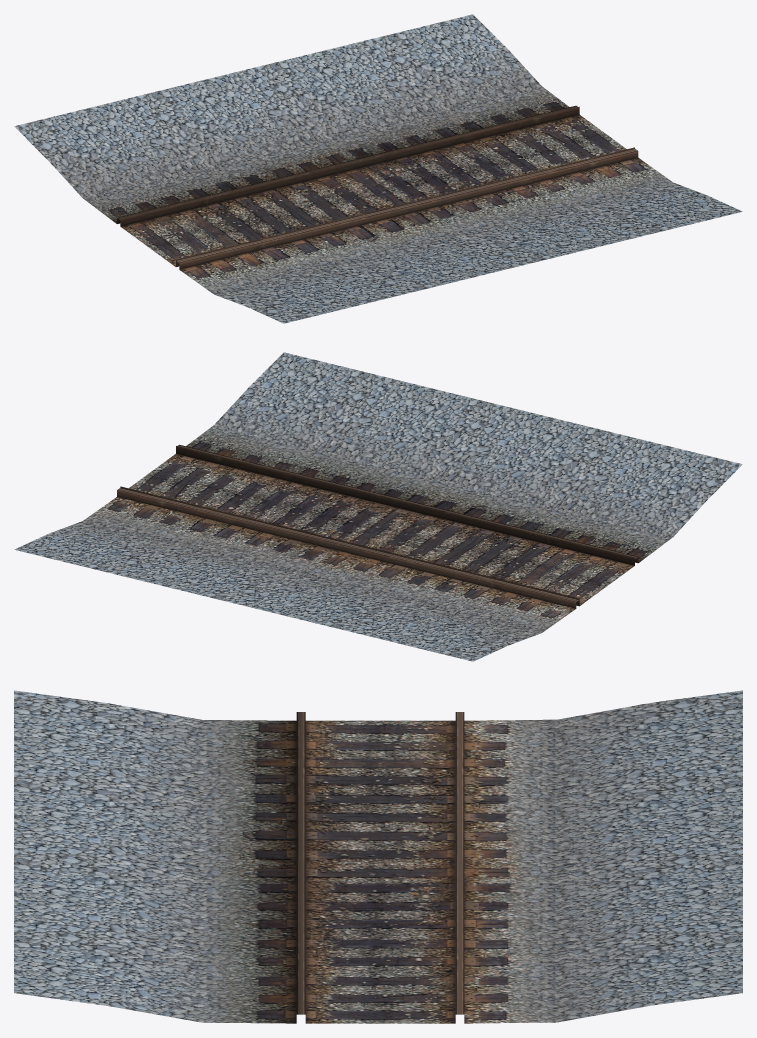
The model's file is railway_4.fbx.
3 views of the same model, one above another, from view 1: azimuth 30°, elevation 25°; view 2: azimuth 150°, elevation 25°; view 3: azimuth 270°, elevation 25° (orthographic). The views are drawn at different scales.
Visible parts, largest first — view 1: Plane.003; view 2: Plane.003; view 3: Plane.003.
Boxes of the visible parts, x1,y1,x2,y2 form: Plane.003: (14, 14, 742, 323); Plane.003: (14, 352, 742, 661); Plane.003: (14, 690, 742, 1023).
Size of the model in its own units: 375 by 17.57 by 382.
1 material, 1 textured.
